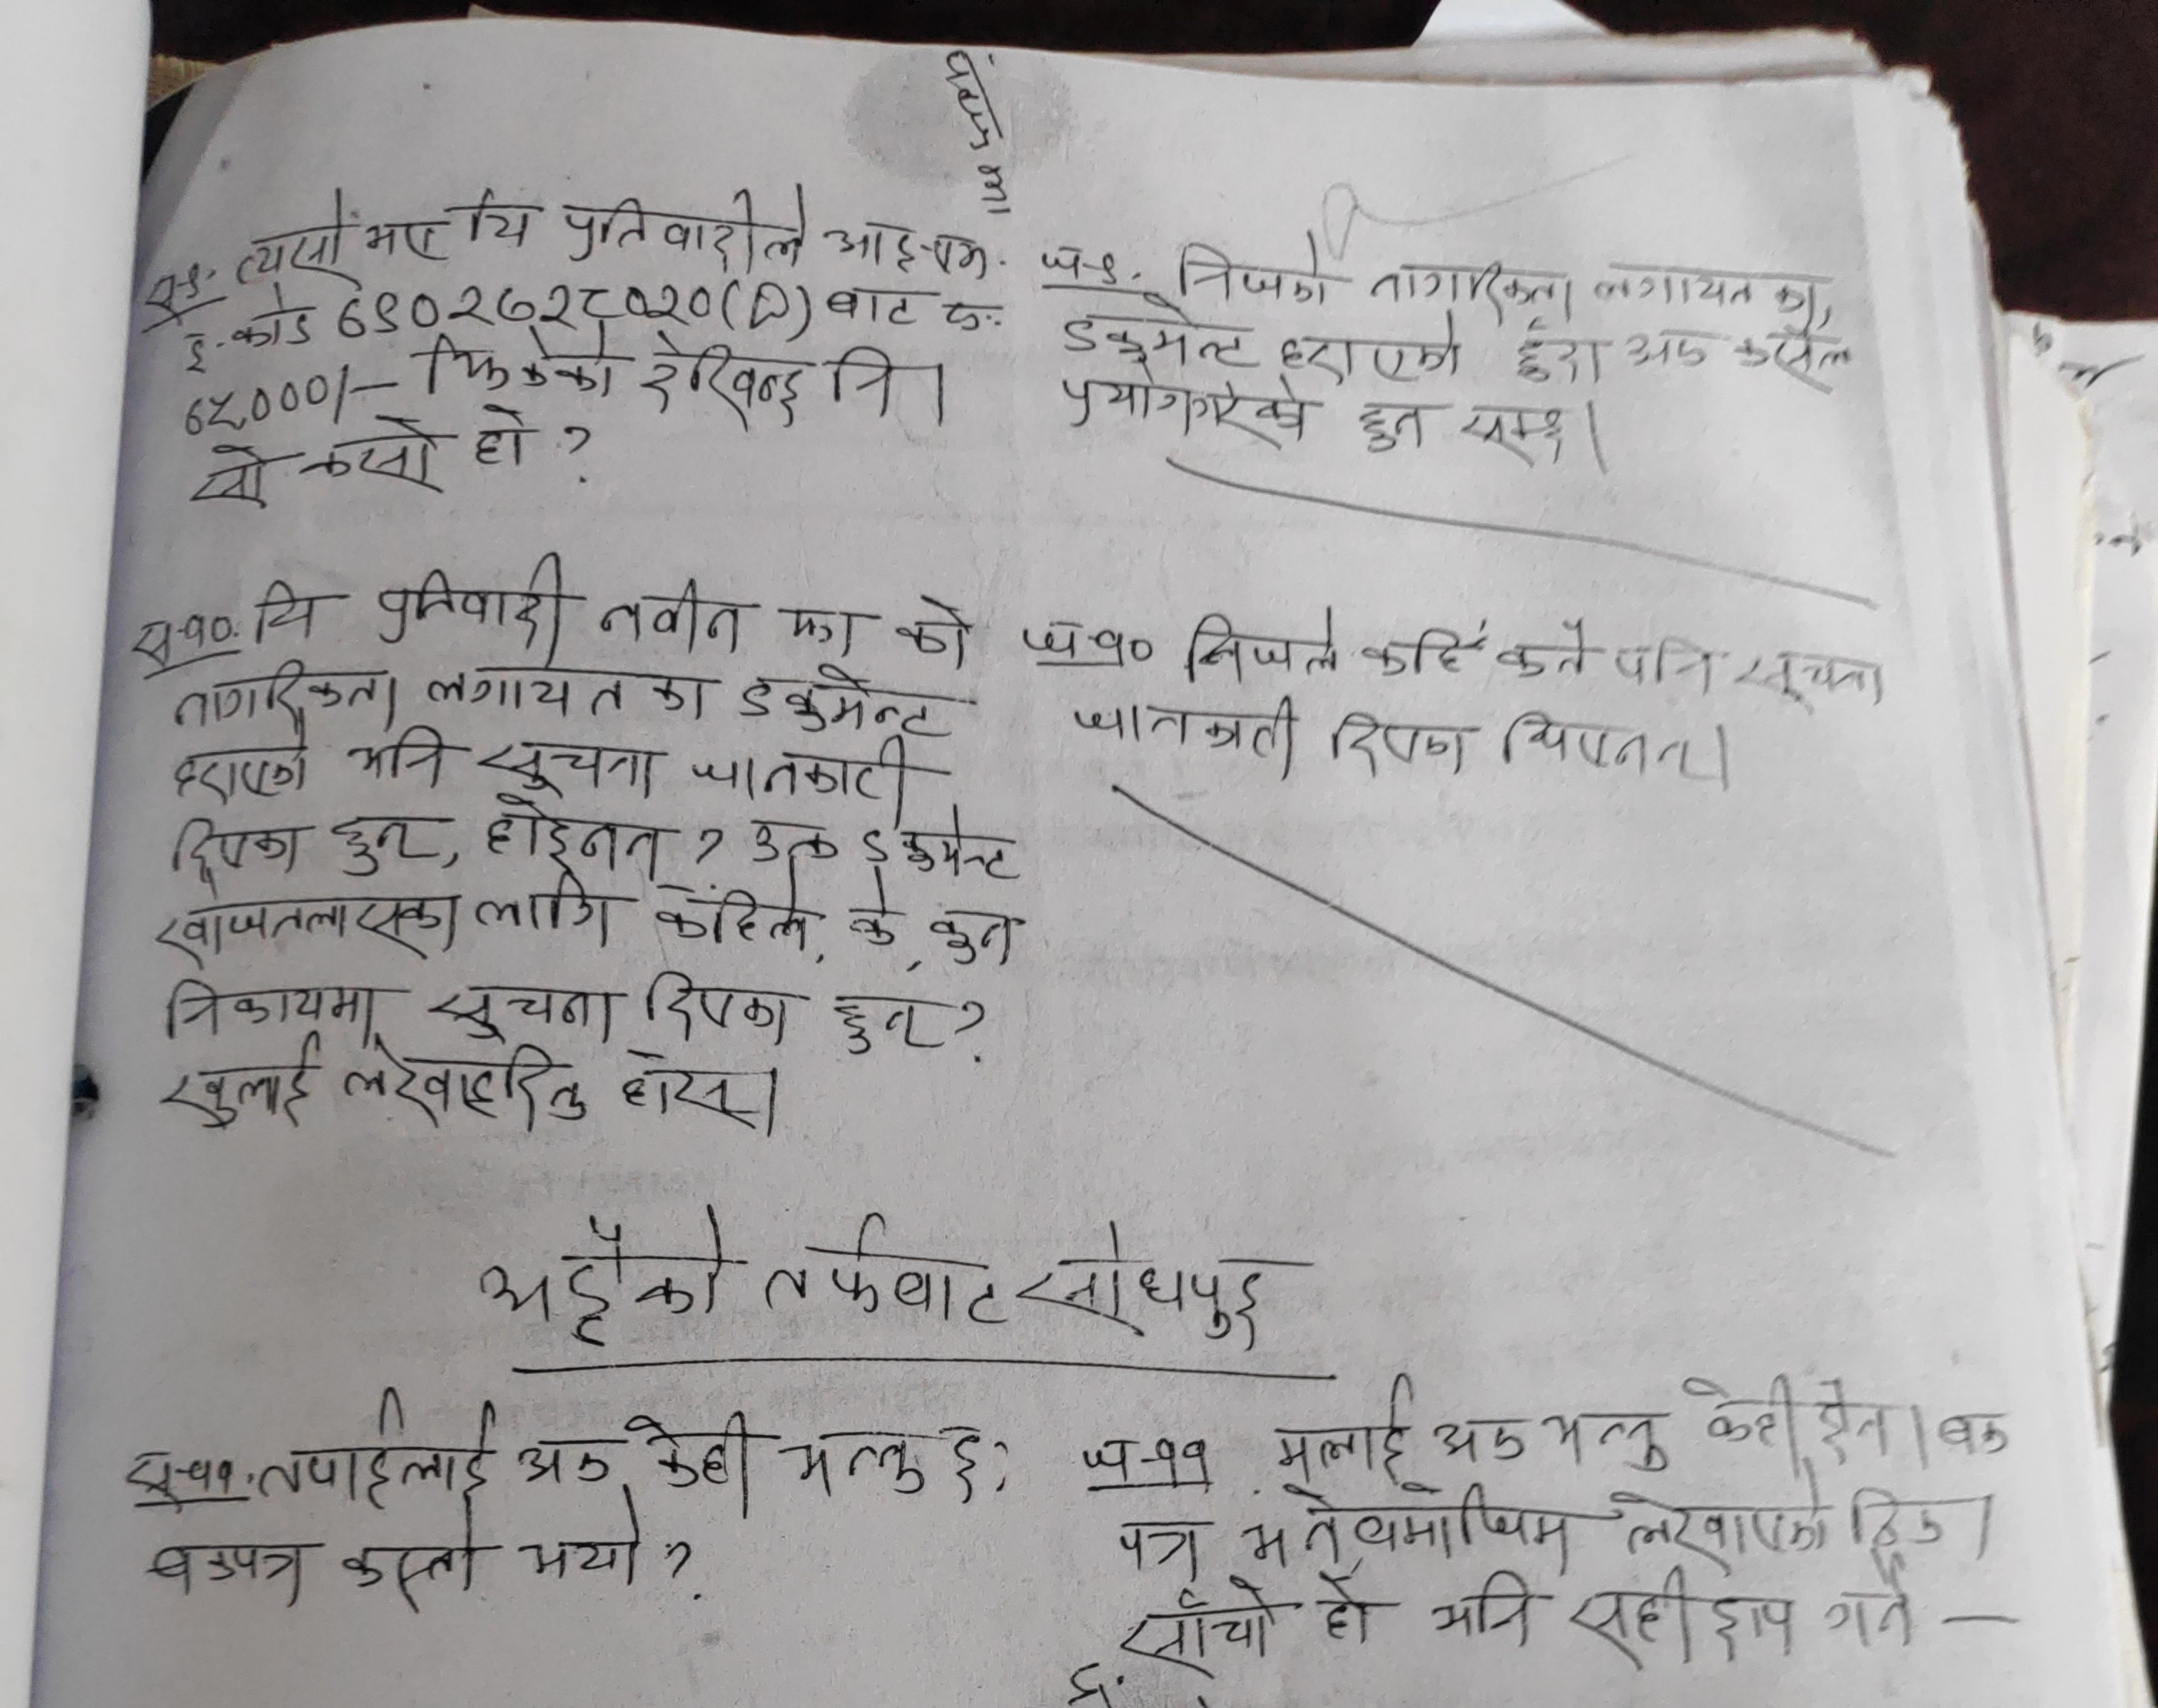text: (471, 1198, 730, 1349), (1009, 1219, 1284, 1351), (1235, 1475, 1583, 1566), (758, 1207, 1011, 1328), (257, 1380, 499, 1503), (149, 881, 468, 963), (555, 179, 818, 273), (1568, 1566, 1795, 1671), (335, 1037, 589, 1130), (333, 280, 720, 338), (1058, 363, 1312, 448), (1604, 1473, 1830, 1570), (375, 547, 575, 655), (420, 653, 715, 720), (736, 664, 962, 745), (1068, 692, 1301, 769), (172, 655, 405, 730), (690, 736, 921, 811), (1499, 711, 1711, 792), (410, 326, 625, 403), (641, 329, 804, 431), (156, 1032, 315, 1135), (480, 794, 667, 881), (1114, 1577, 1272, 1680), (1060, 289, 1259, 370), (335, 1503, 480, 1608), (419, 974, 624, 1046), (1279, 308, 1461, 385), (1181, 604, 1345, 688), (625, 1407, 762, 1505), (1270, 1384, 1412, 1477), (643, 962, 792, 1049), (1592, 259, 1823, 315), (163, 974, 378, 1034), (1368, 254, 1576, 315), (1172, 231, 1331, 310), (781, 1422, 930, 1507), (652, 876, 809, 955), (475, 732, 662, 797), (513, 1501, 646, 1591), (597, 573, 748, 652), (145, 1538, 314, 1608), (231, 191, 350, 287), (301, 413, 440, 496), (1680, 1368, 1801, 1461), (1851, 1479, 1997, 1556), (471, 867, 613, 946), (893, 801, 1023, 886), (825, 214, 993, 279), (1321, 708, 1468, 781), (618, 1055, 758, 1132), (1808, 1377, 1934, 1461), (173, 730, 317, 804), (1731, 646, 1892, 711), (1424, 1566, 1541, 1652), (1540, 1401, 1675, 1475), (1818, 1556, 1920, 1652), (1727, 324, 1853, 398), (825, 986, 948, 1058), (166, 816, 303, 879), (180, 375, 338, 427), (329, 806, 434, 881), (1456, 401, 1568, 468), (1489, 615, 1590, 687), (343, 722, 452, 785), (1510, 322, 1613, 387), (184, 443, 277, 515), (921, 902, 1014, 974), (890, 590, 974, 669), (829, 340, 906, 426), (1613, 629, 1715, 694), (457, 180, 545, 254), (231, 284, 319, 357), (1361, 622, 1473, 678), (1429, 1412, 1531, 1470), (515, 1436, 611, 1496), (252, 576, 328, 650), (1114, 1514, 1205, 1573), (778, 597, 864, 660), (464, 401, 543, 469), (823, 280, 930, 329), (744, 811, 837, 867), (1310, 1568, 1375, 1647), (1622, 321, 1708, 375), (1358, 396, 1433, 457), (935, 1415, 984, 1505), (846, 872, 899, 955), (361, 219, 443, 266), (853, 822, 893, 869), (173, 333, 215, 371)
